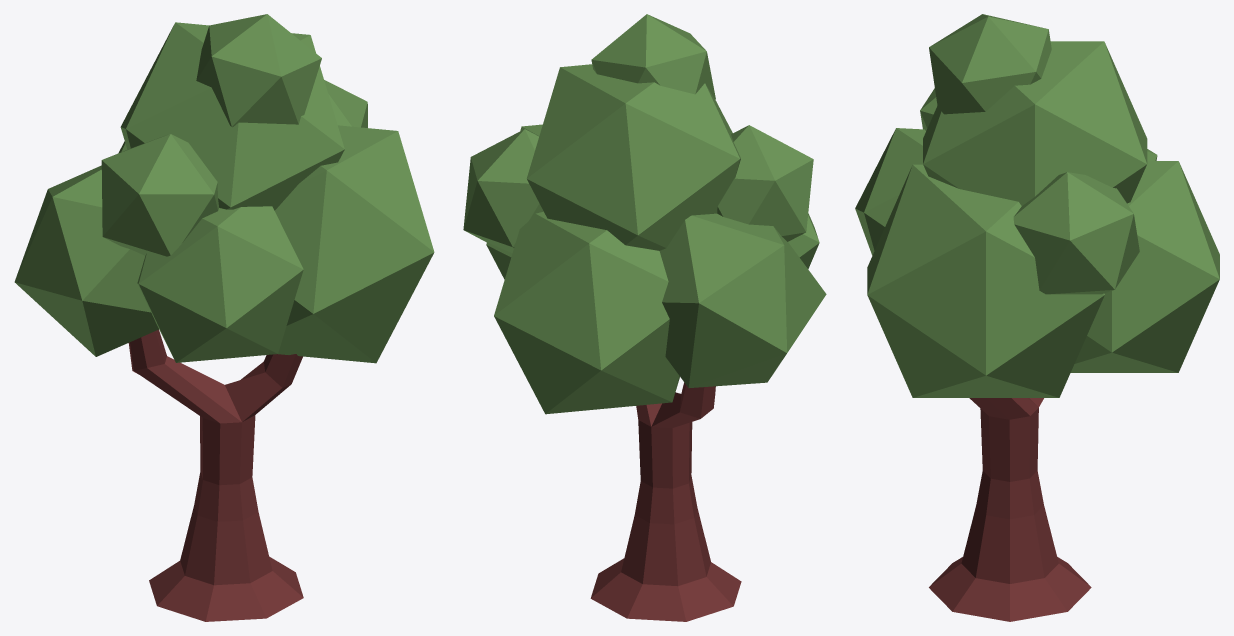
The model's file is GreenTree.005.fbx.
3 renders of one model, left to right at view 1: azimuth 30°, elevation 25°; view 2: azimuth 150°, elevation 25°; view 3: azimuth 270°, elevation 25°, orthographic. The views are drawn at different scales.
Parts seen in each view (by area): view 1: GreenTree.005; view 2: GreenTree.005; view 3: GreenTree.005.
Boxes of the visible parts, left/top/right/bottom form: GreenTree.005: left=14, top=14, right=434, bottom=621; GreenTree.005: left=463, top=14, right=826, bottom=621; GreenTree.005: left=855, top=14, right=1219, bottom=621.
Size of the model in its own units: 25313 by 38814 by 21900.
